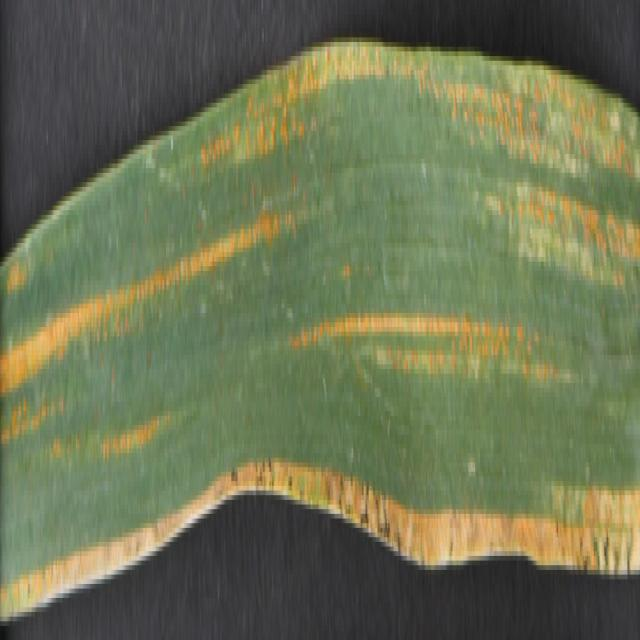leaf rust: (306, 9, 638, 383), (1, 131, 302, 490)
